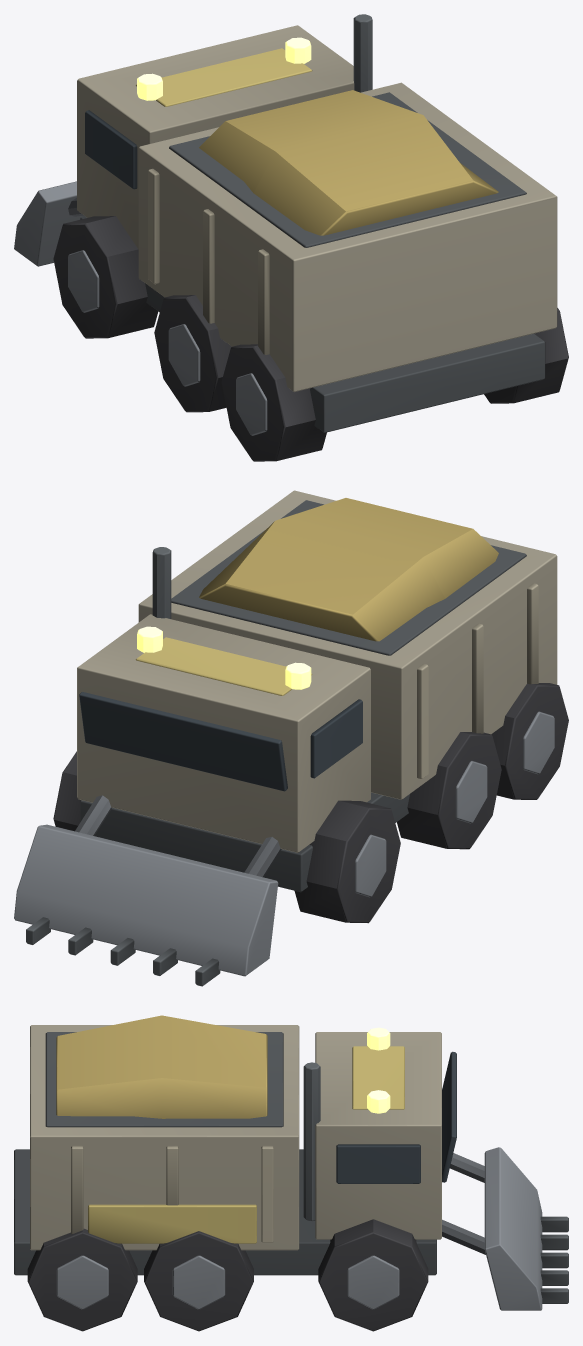
The model's file is harvester.glb.
3 views of the same model, one above another, from view 1: azimuth 30°, elevation 25°; view 2: azimuth 150°, elevation 25°; view 3: azimuth 270°, elevation 25° (orthographic). The views are drawn at different scales.
Visible parts, largest first — view 1: Body; view 2: Body; view 3: Body.
Boxes of the visible parts, x1=… form: Body: x1=14, y1=14, x2=568, y2=461; Body: x1=14, y1=490, x2=568, y2=986; Body: x1=14, y1=1015, x2=568, y2=1331.
Bounding box in the file's own units: 2.74 × 2.6 × 5.25.
